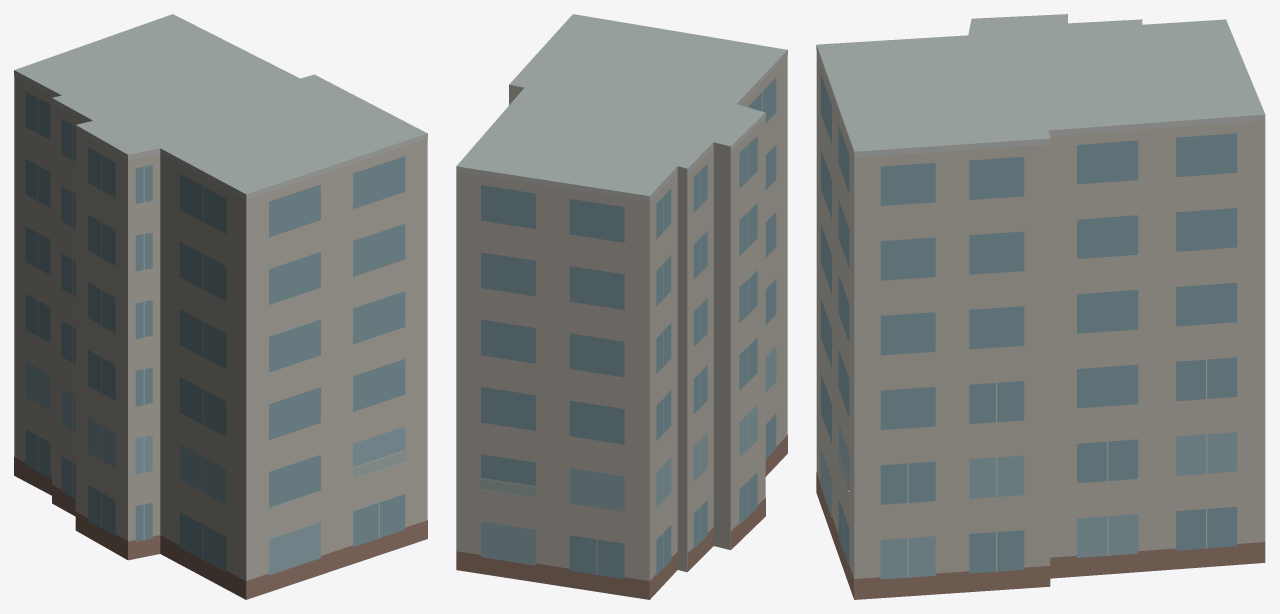
Rendered from survey-upis-32563706.glb.
3 renders of one model, left to right at view 1: azimuth 30°, elevation 25°; view 2: azimuth 150°, elevation 25°; view 3: azimuth 270°, elevation 25°, orthographic. The views are drawn at different scales.
Parts seen in each view (by area): view 1: survey-upis-32563706.tmp; view 2: survey-upis-32563706.tmp; view 3: survey-upis-32563706.tmp.
Boxes of the visible parts, bbox=[...] form: survey-upis-32563706.tmp: bbox=[14, 14, 427, 599]; survey-upis-32563706.tmp: bbox=[456, 14, 787, 599]; survey-upis-32563706.tmp: bbox=[816, 14, 1265, 599].
Size of the model in its own units: 12.07 by 18.3 by 16.62.
